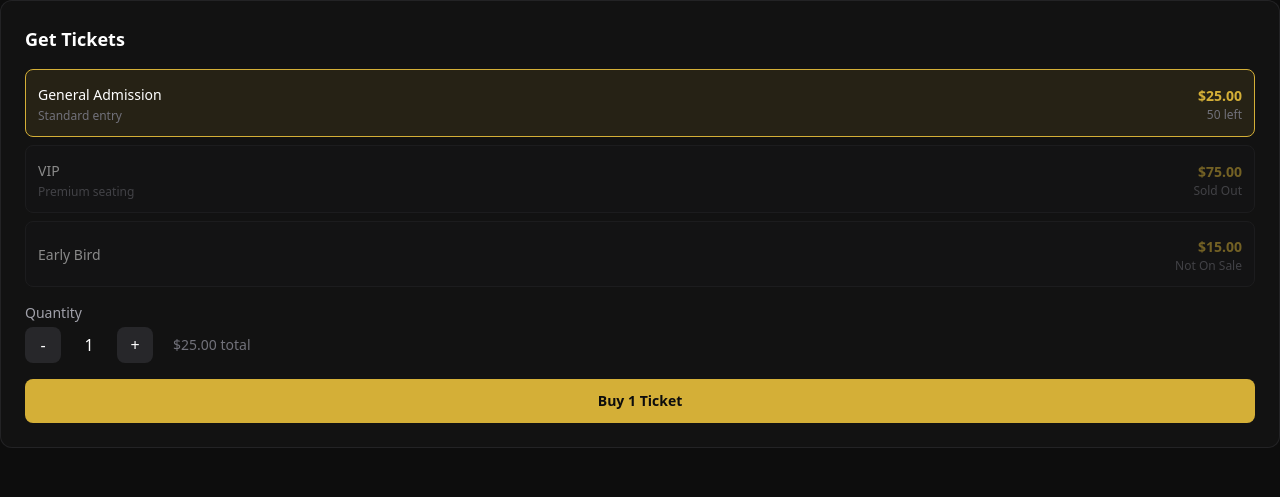
TicketPurchaseWidget › shows error on purchase failure
Step 1. Click the button "Buy 1 Ticket" → click(640, 401), box x1=25 y1=379 x2=1255 y2=423
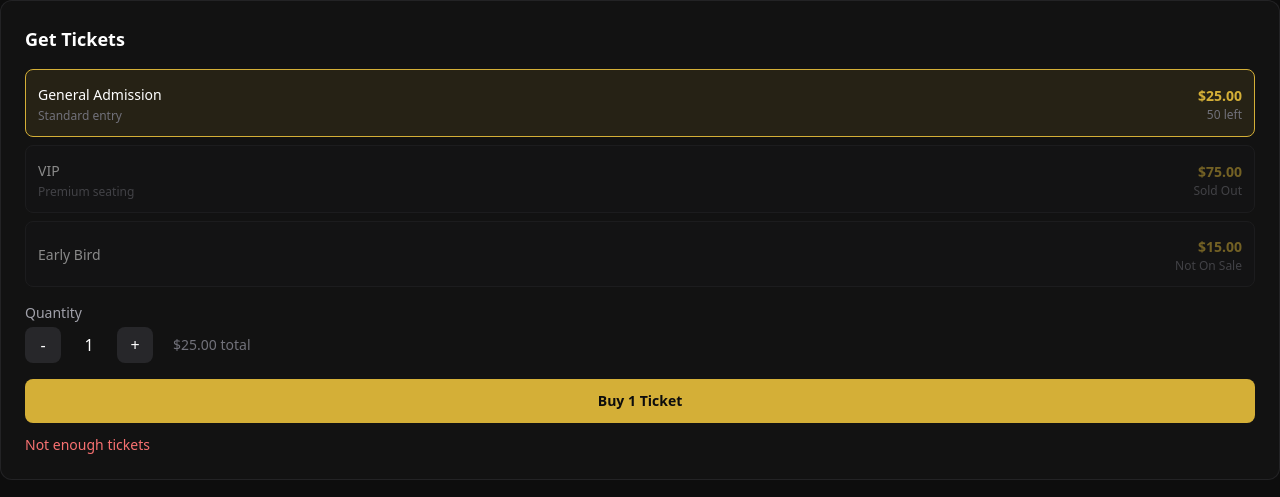
Result: the text "Not enough tickets" is shown at x1=25 y1=435 x2=150 y2=454
